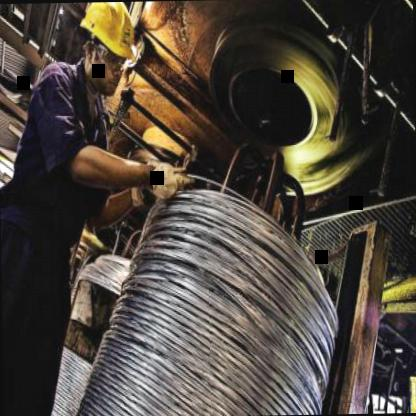helmet: (68, 2, 139, 100)
